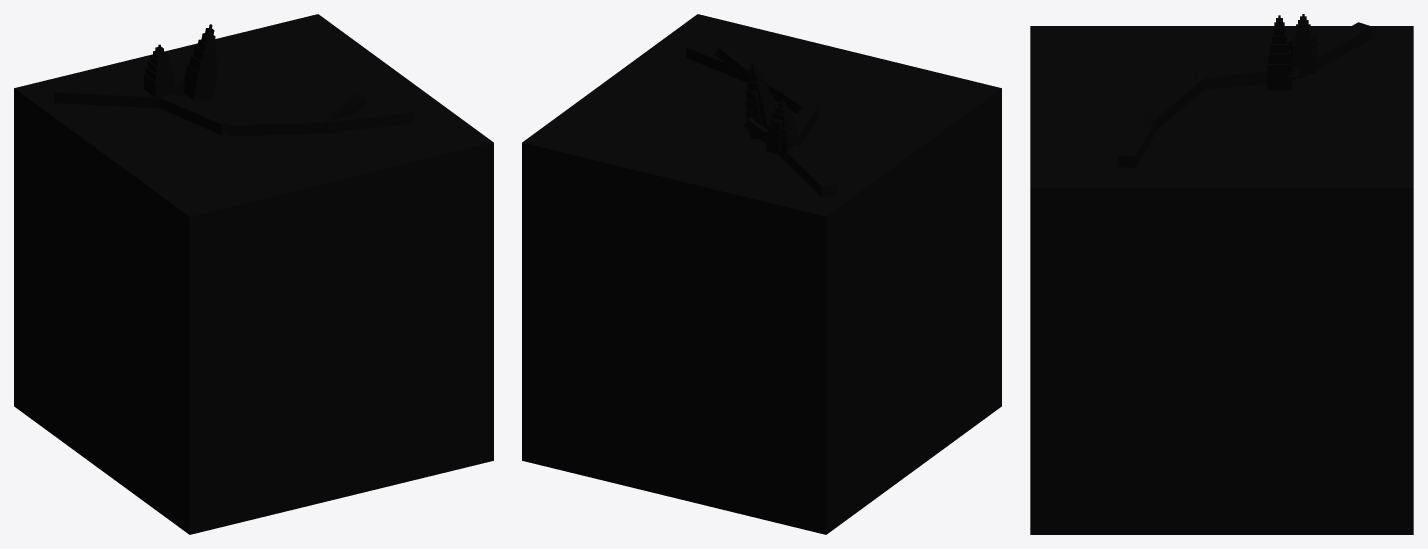
File: lab_checker_eroded.obj
3 views of the same model, side by side, from view 1: azimuth 30°, elevation 25°; view 2: azimuth 150°, elevation 25°; view 3: azimuth 270°, elevation 25° (orthographic). The views are drawn at different scales.
Bounding box in the file's own units: 1 × 1.24 × 1.
